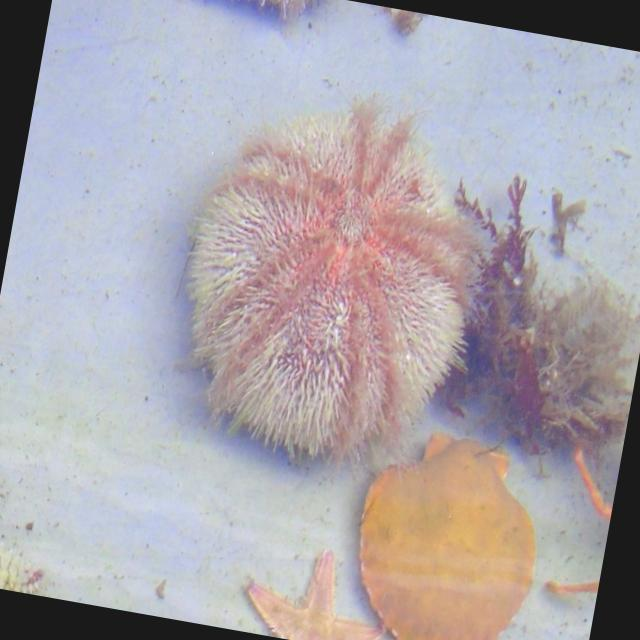Deniz Kestanesi: (154, 63, 508, 485)
